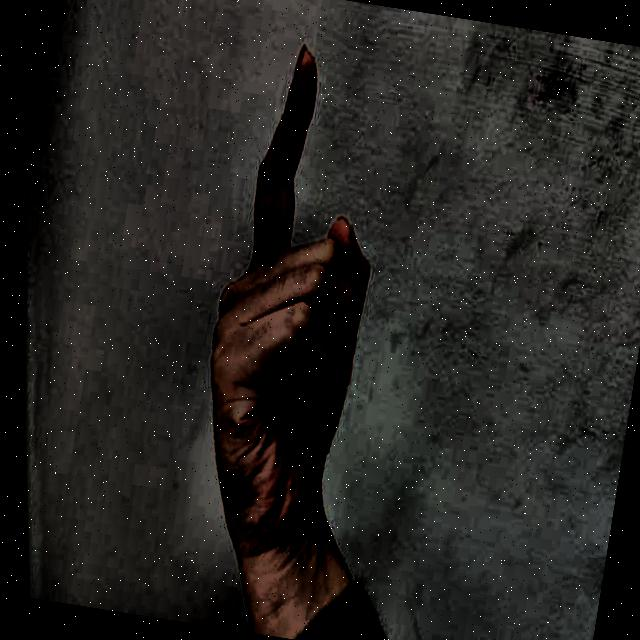U: (151, 7, 426, 563)
